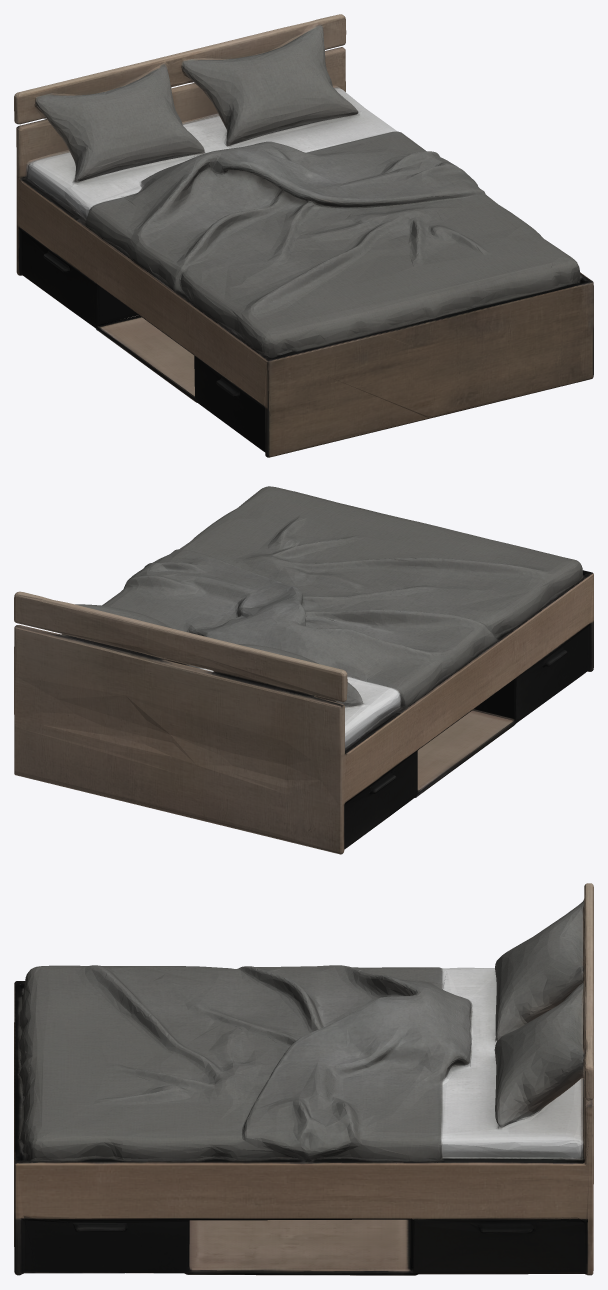
The model's file is Modly_textured.glb.
3 views of the same model, one above another, from view 1: azimuth 30°, elevation 25°; view 2: azimuth 150°, elevation 25°; view 3: azimuth 270°, elevation 25° (orthographic). The views are drawn at different scales.
Visible parts, largest first — view 1: world; view 2: world; view 3: world.
Part boxes in pixels (left/top/right/bottom): world: left=14, top=14, right=593, bottom=457; world: left=14, top=486, right=593, bottom=854; world: left=14, top=883, right=593, bottom=1275.
Bounding box in the file's own units: 0.7724 × 0.4011 × 1.
Materials: 1 (1 with a texture image).
